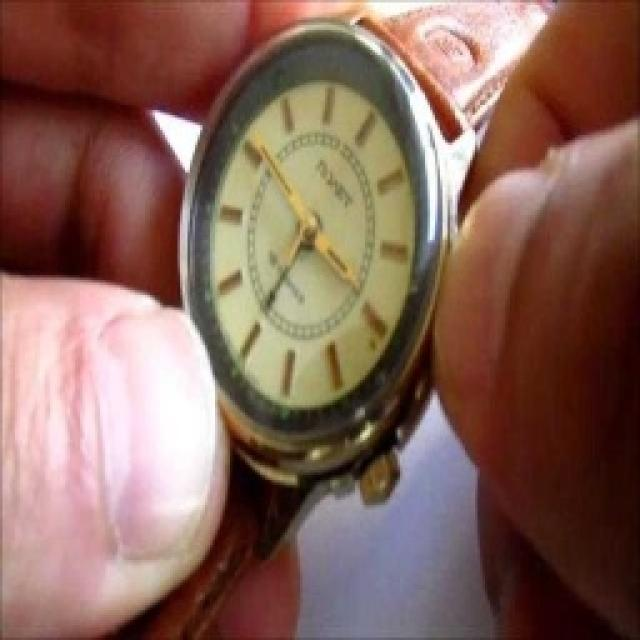saat: (170, 14, 462, 503)
